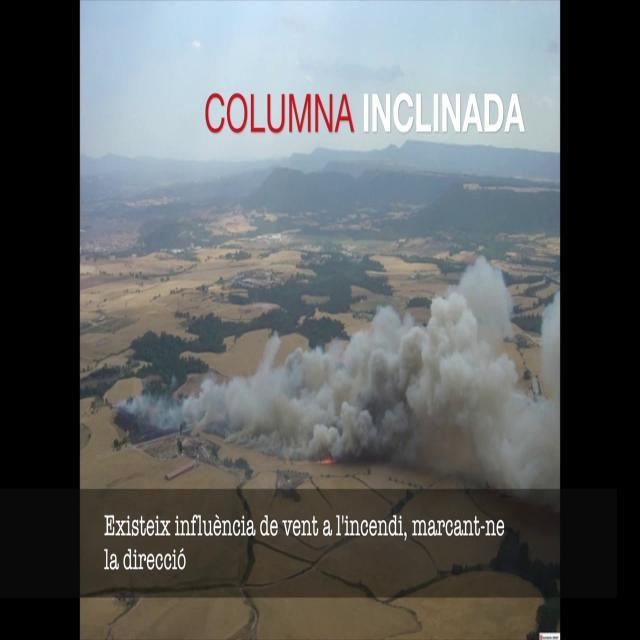Smoke: (140, 252, 558, 476)
